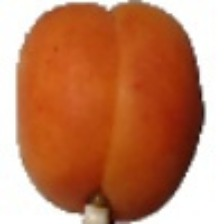apricot: (17, 29, 219, 190)
